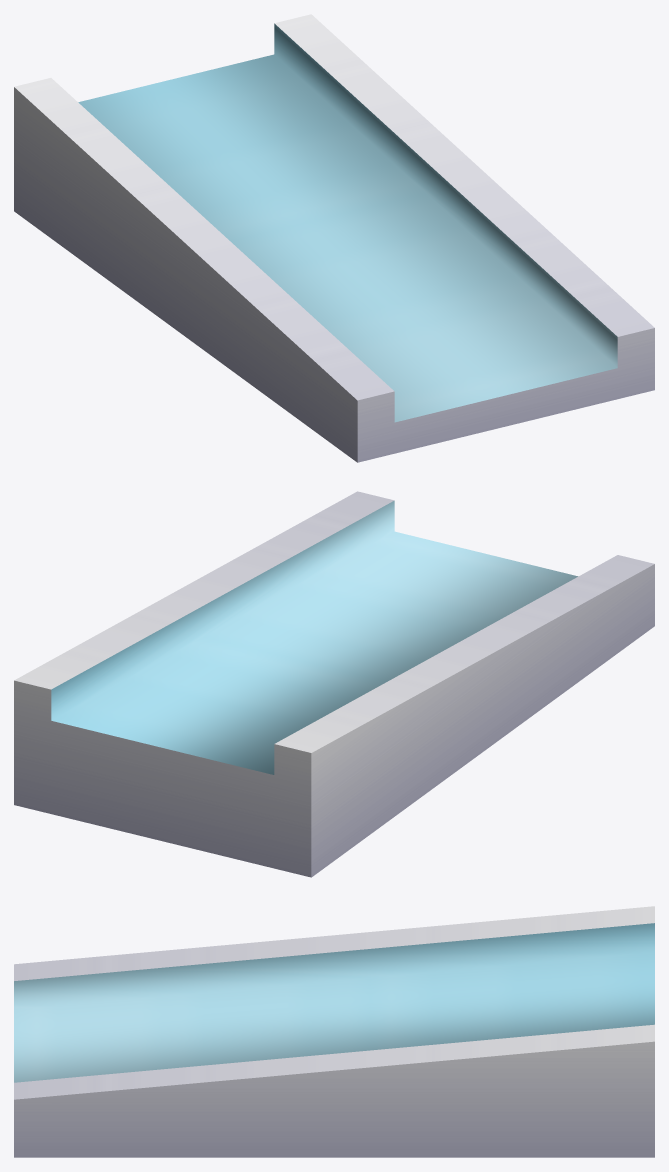
The model's file is snow-tile-straight-slope-large.fbx.
3 views of the same model, one above another, from view 1: azimuth 30°, elevation 25°; view 2: azimuth 150°, elevation 25°; view 3: azimuth 270°, elevation 25° (orthographic). The views are drawn at different scales.
Parts seen in each view (by area): view 1: snow-tile-straight-slope-large; view 2: snow-tile-straight-slope-large; view 3: snow-tile-straight-slope-large.
Part boxes in pixels (x1,y1,x2,y2): snow-tile-straight-slope-large: (14, 14, 654, 462); snow-tile-straight-slope-large: (14, 491, 654, 877); snow-tile-straight-slope-large: (14, 906, 654, 1157).
Bounding box in the file's own units: 100 × 40 × 200.
